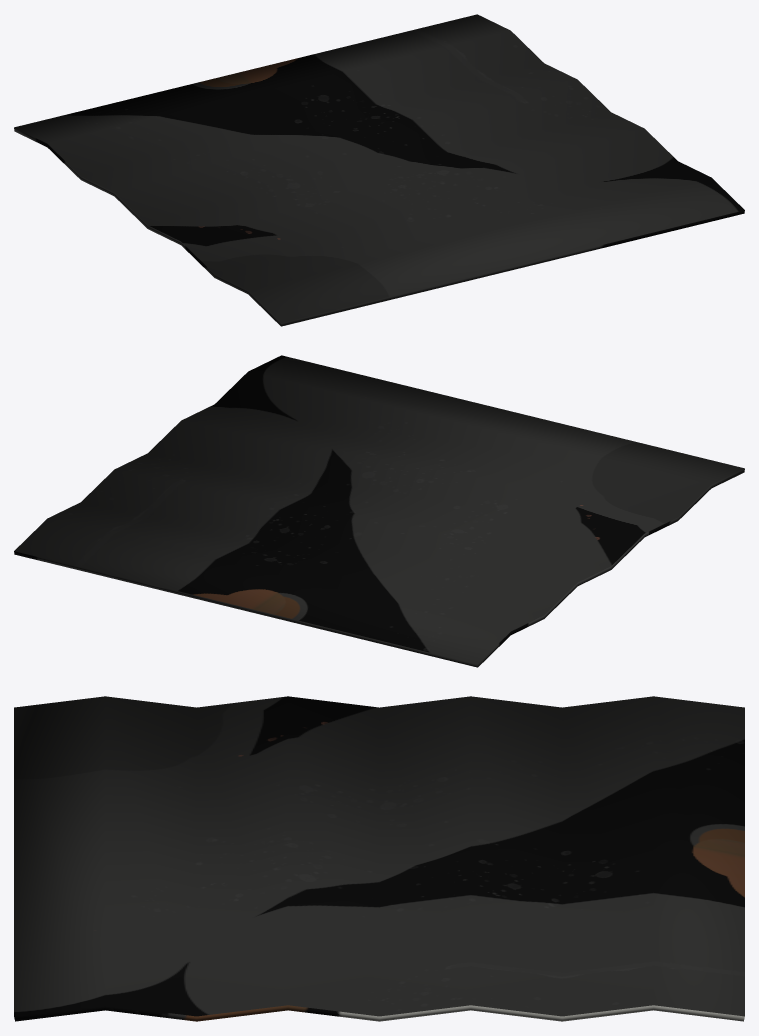
Rendered from corrugatedMetal.obj.
The picture shows the model from 3 angles, top to bottom: view 1: azimuth 30°, elevation 25°; view 2: azimuth 150°, elevation 25°; view 3: azimuth 270°, elevation 25°; orthographic projection. The views are drawn at different scales.
Visible parts, largest first — view 1: CorrugatedMetal_corrugatedMetal_mesh; view 2: CorrugatedMetal_corrugatedMetal_mesh; view 3: CorrugatedMetal_corrugatedMetal_mesh.
Boxes of the visible parts, x1,y1,x2,y2 form: CorrugatedMetal_corrugatedMetal_mesh: (14, 14, 744, 326); CorrugatedMetal_corrugatedMetal_mesh: (14, 355, 744, 667); CorrugatedMetal_corrugatedMetal_mesh: (14, 696, 744, 1021).
Size of the model in its own units: 2 by 0.0494 by 2.
